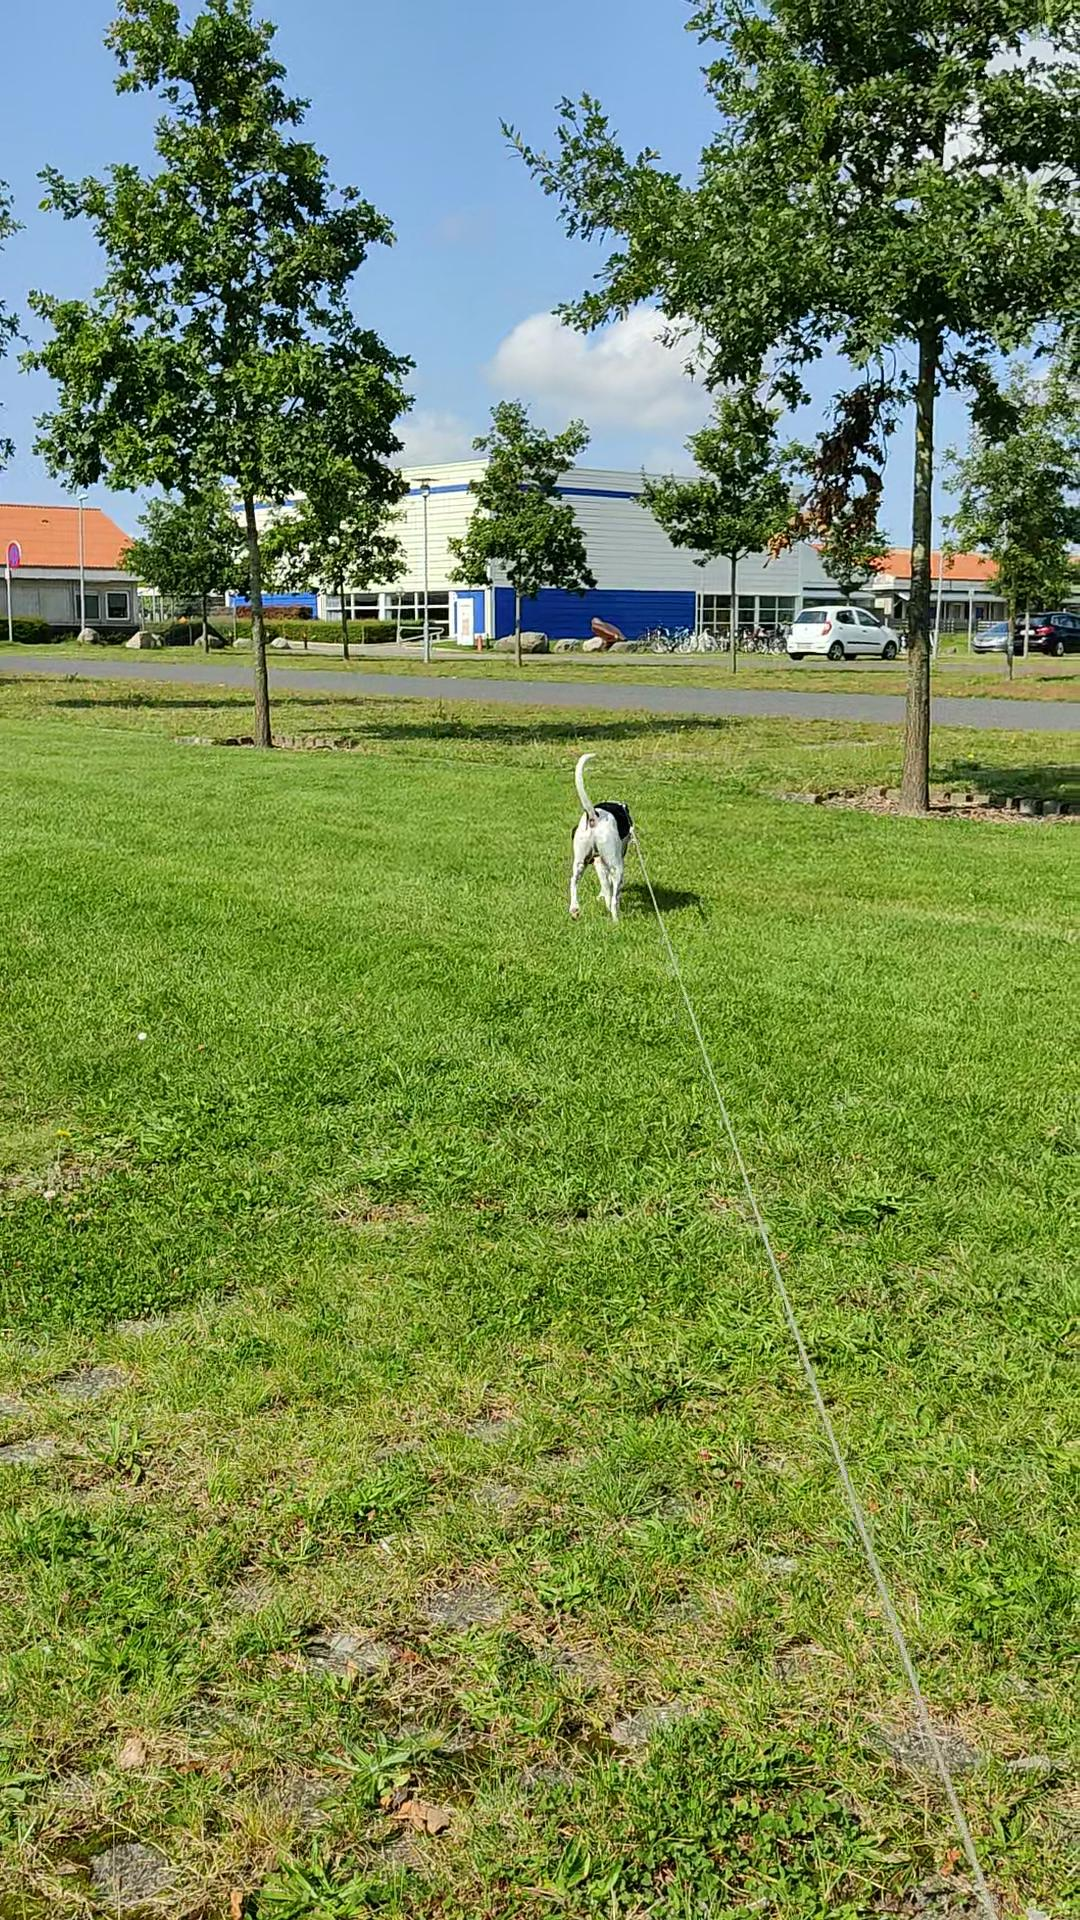Dog: (556, 742, 638, 926)
